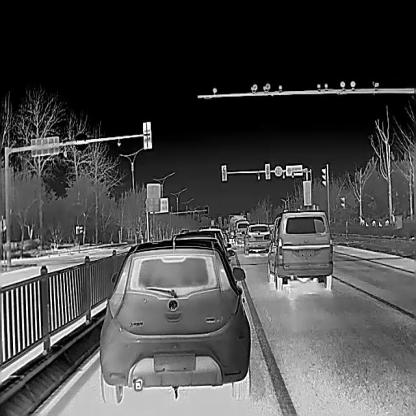car: (99, 243, 251, 403), (266, 210, 332, 291), (170, 232, 233, 272), (241, 224, 271, 255)
truck: (226, 213, 247, 240), (234, 220, 250, 244)
